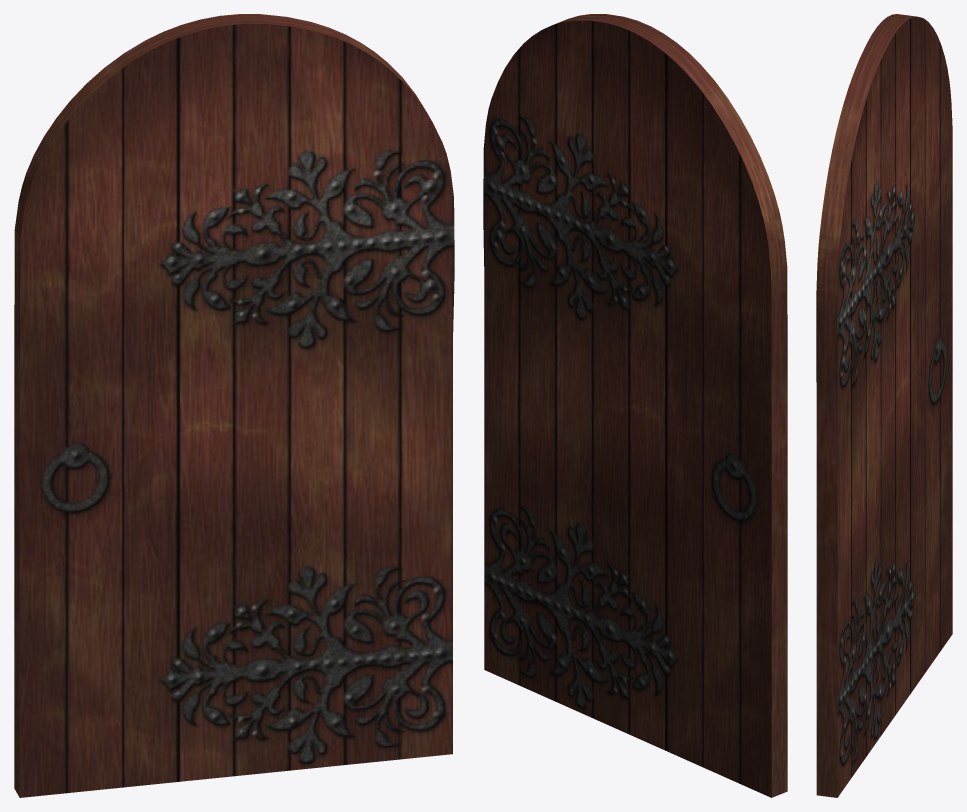
Rendered from door 6.obj.
3 renders of one model, left to right at view 1: azimuth 30°, elevation 25°; view 2: azimuth 150°, elevation 25°; view 3: azimuth 270°, elevation 25°, orthographic. The views are drawn at different scales.
Visible parts, largest first — view 1: door_10:Mesh; view 2: door_10:Mesh; view 3: door_10:Mesh.
Boxes of the visible parts, bbox=[...] form: door_10:Mesh: bbox=[14, 14, 454, 797]; door_10:Mesh: bbox=[483, 14, 787, 797]; door_10:Mesh: bbox=[816, 14, 952, 797].
Bounding box in the file's own units: 62.96 × 120 × 21.7.
Materials: 1 (1 with a texture image).
